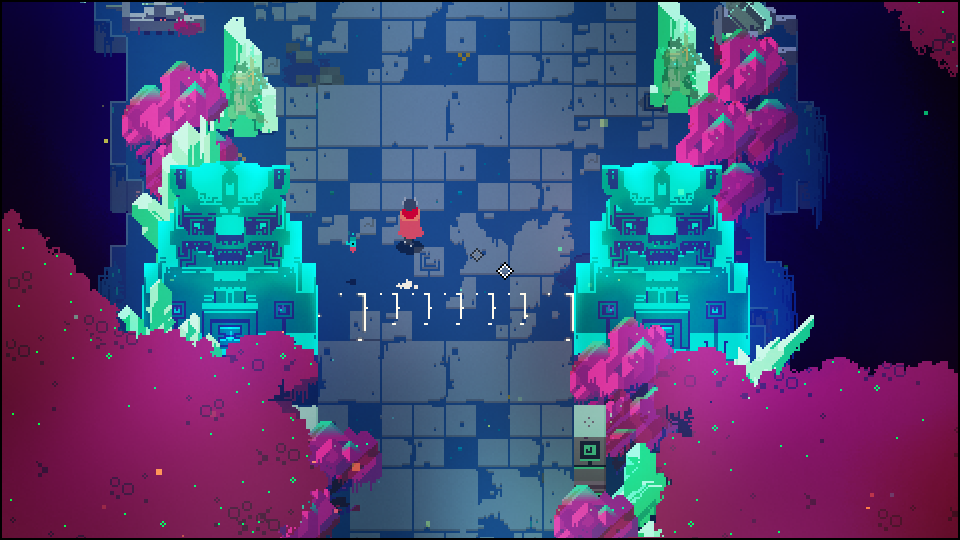player: (397, 195, 424, 251)
